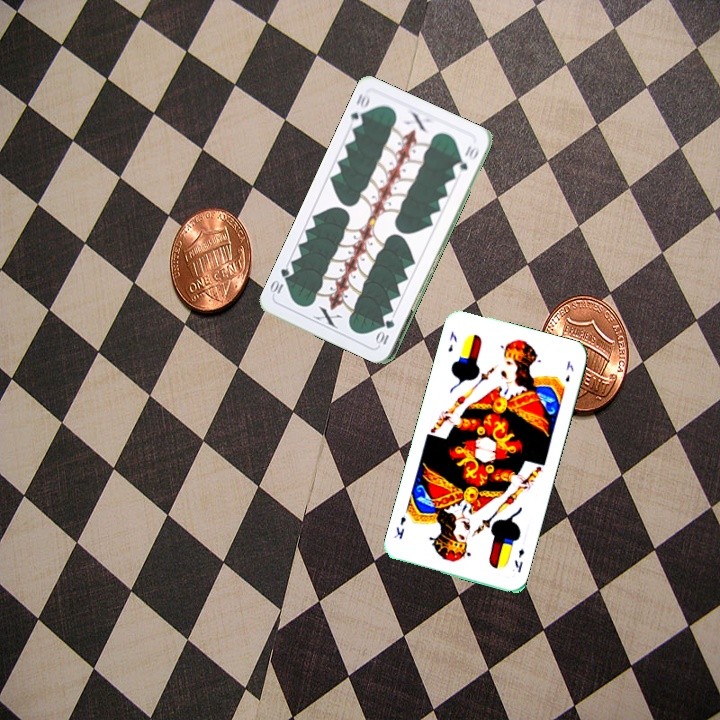EK: (510, 545, 527, 575), (444, 327, 459, 354)
G10: (346, 89, 372, 130), (374, 315, 397, 348)
